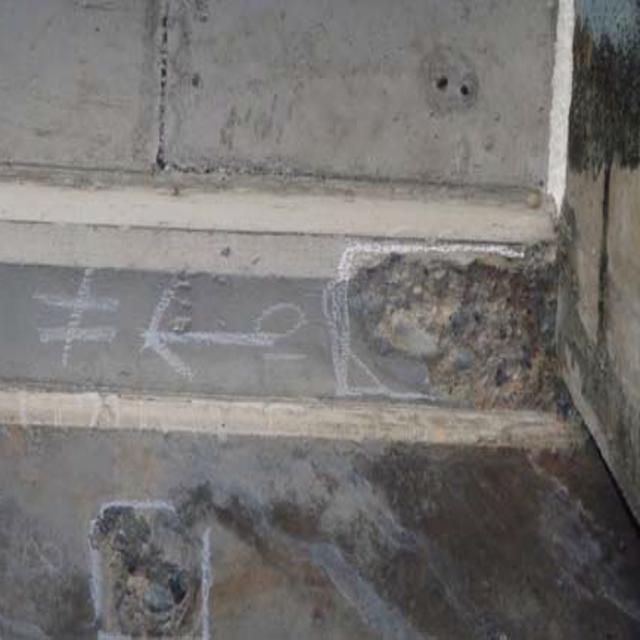spalling: (340, 193, 599, 427), (83, 493, 217, 640)
